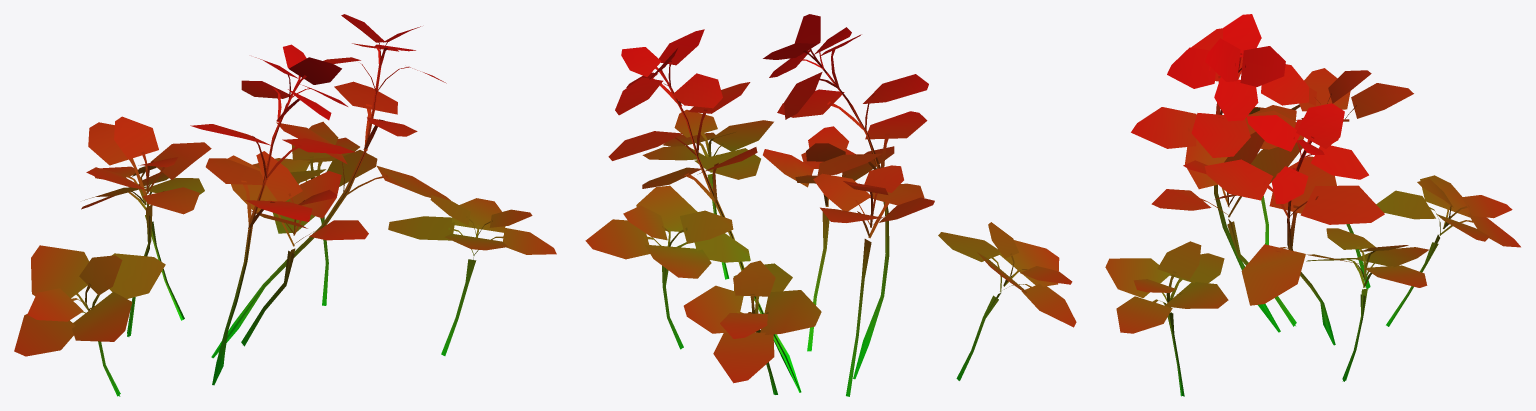
File: vegetation_6.fbx
3 views of the same model, side by side, from view 1: azimuth 30°, elevation 25°; view 2: azimuth 150°, elevation 25°; view 3: azimuth 270°, elevation 25° (orthographic). The views are drawn at different scales.
Parts seen in each view (by area): view 1: f:_oxv9_Var4_0; view 2: f:_oxv9_Var4_0; view 3: f:_oxv9_Var4_0.
Part boxes in pixels (x1,y1,x2,y2): f:_oxv9_Var4_0: (14, 14, 556, 396); f:_oxv9_Var4_0: (585, 14, 1076, 396); f:_oxv9_Var4_0: (1105, 14, 1520, 396).
Bounding box in the file's own units: 14.78 × 9.99 × 11.49.
